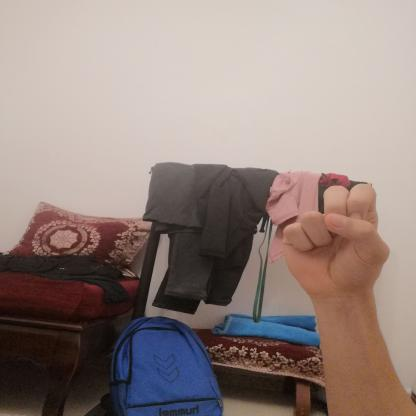QAAF: (267, 175, 404, 304)
